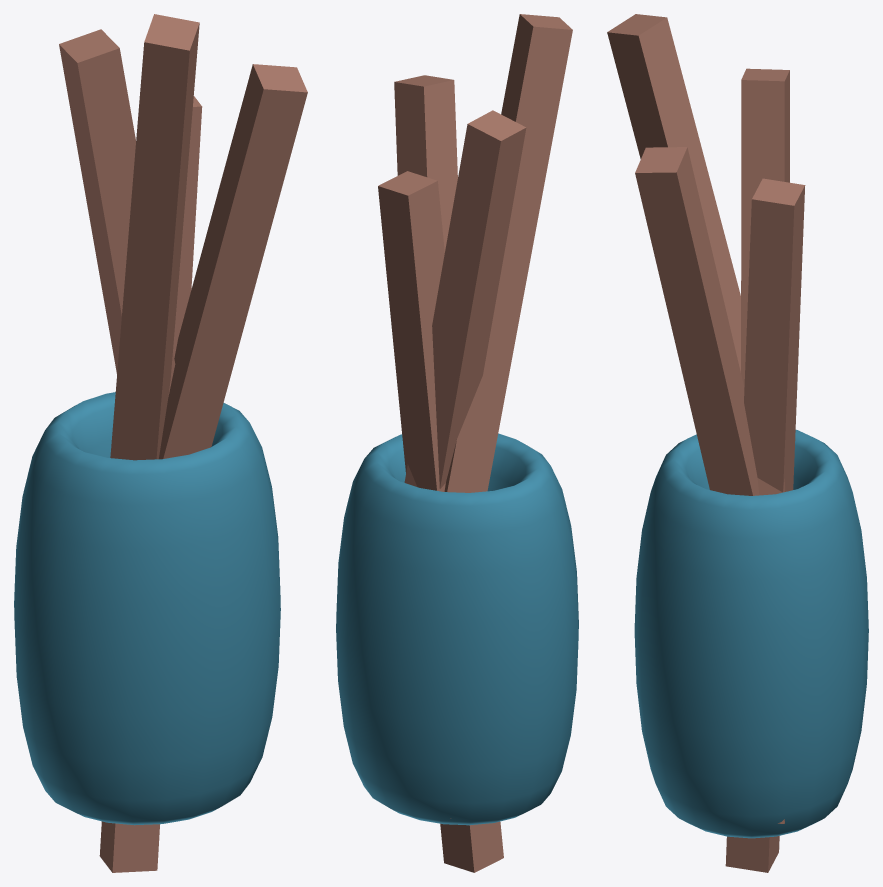
The model's file is Vase.fbx.
The picture shows the model from 3 angles, left to right: view 1: azimuth 30°, elevation 25°; view 2: azimuth 150°, elevation 25°; view 3: azimuth 270°, elevation 25°; orthographic projection. The views are drawn at different scales.
Parts seen in each view (by area): view 1: pasted__pCube5; view 2: pasted__pCube5; view 3: pasted__pCube5.
Part boxes in pixels (x1,y1,x2,y2): pasted__pCube5: (14,14,307,872); pasted__pCube5: (336,14,578,872); pasted__pCube5: (607,14,868,872).
Size of the model in its own units: 36.08 by 128 by 36.47.
